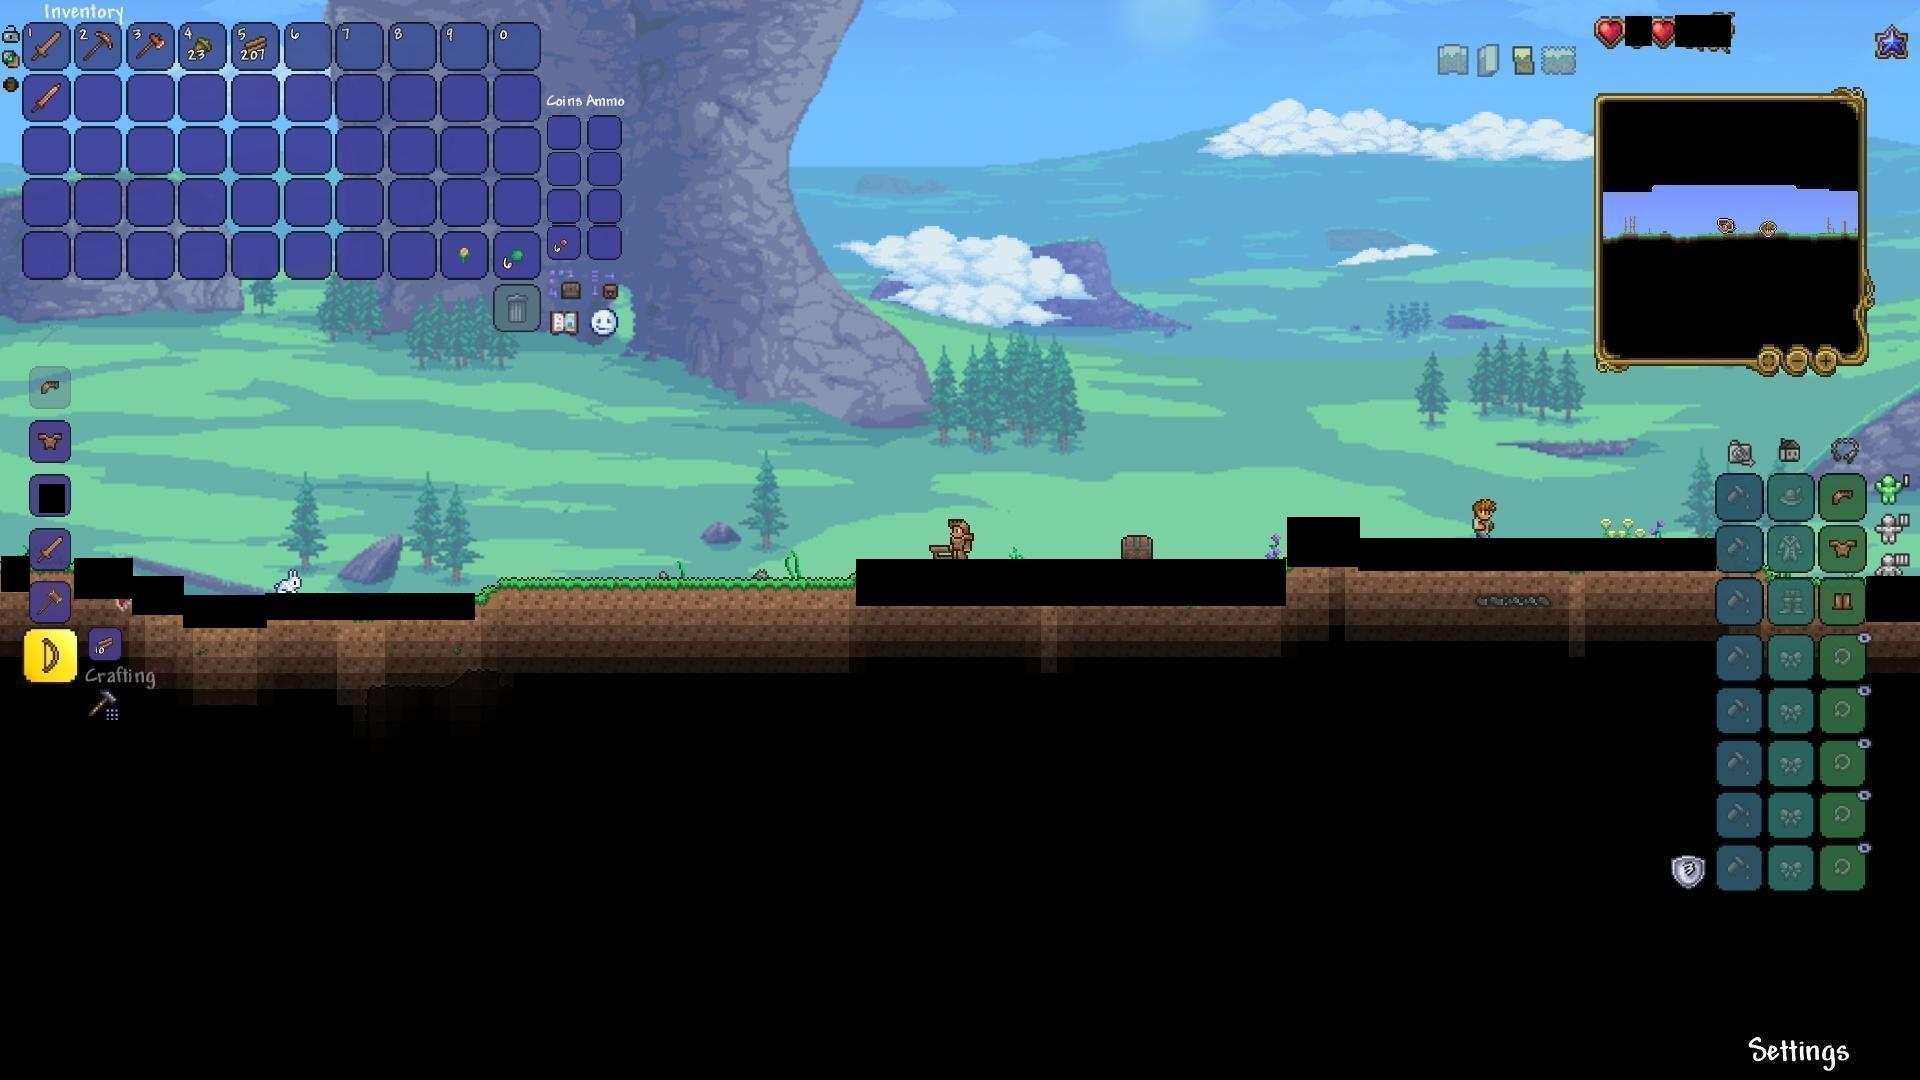breastplate: (1830, 537, 1859, 559), (38, 433, 66, 452)
dirt: (487, 572, 851, 615)
heart: (1596, 15, 1625, 44), (1648, 17, 1676, 47)
helmet: (36, 376, 66, 404), (1828, 483, 1858, 510)
legs: (1832, 587, 1855, 616)
wood: (239, 29, 272, 59), (91, 632, 117, 655)
workbench: (927, 538, 964, 563)
